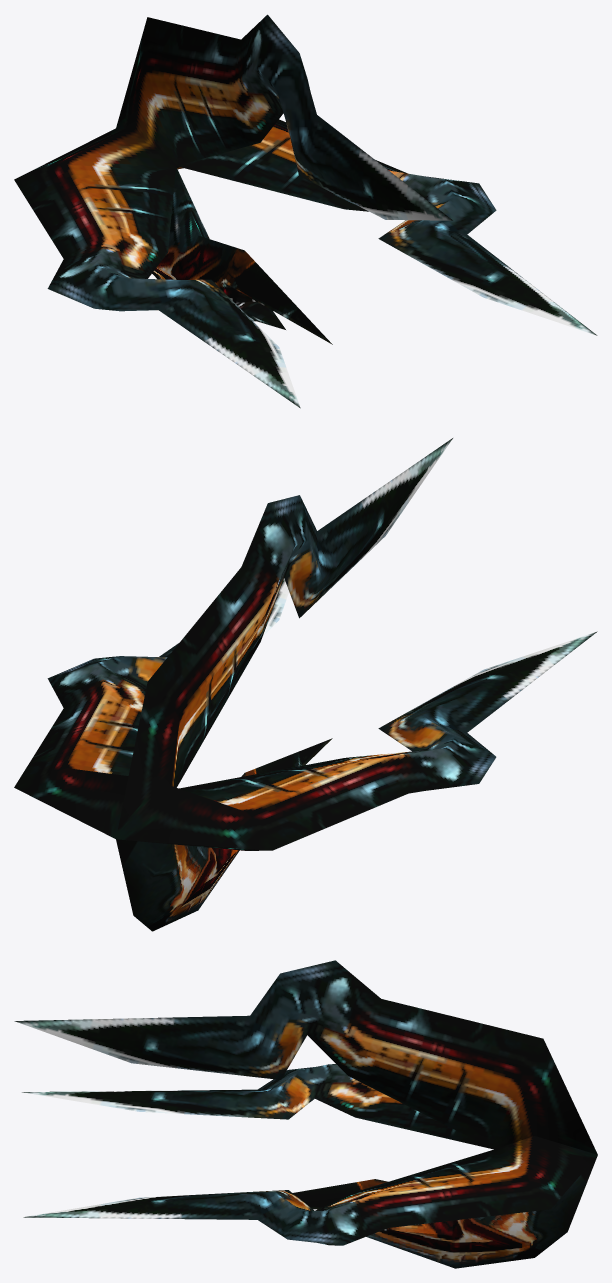
The model's file is MOB_03.obj.
3 views of the same model, one above another, from view 1: azimuth 30°, elevation 25°; view 2: azimuth 150°, elevation 25°; view 3: azimuth 270°, elevation 25° (orthographic). The views are drawn at different scales.
Parts seen in each view (by area): view 1: MESH020; view 2: MESH020; view 3: MESH020.
Part boxes in pixels (<box>): MESH020: <box>14,14,597,408</box>; MESH020: <box>14,438,597,931</box>; MESH020: <box>14,960,597,1268</box>.
Size of the model in its own units: 108 by 85.01 by 146.
Materials: 1 (1 with a texture image).
